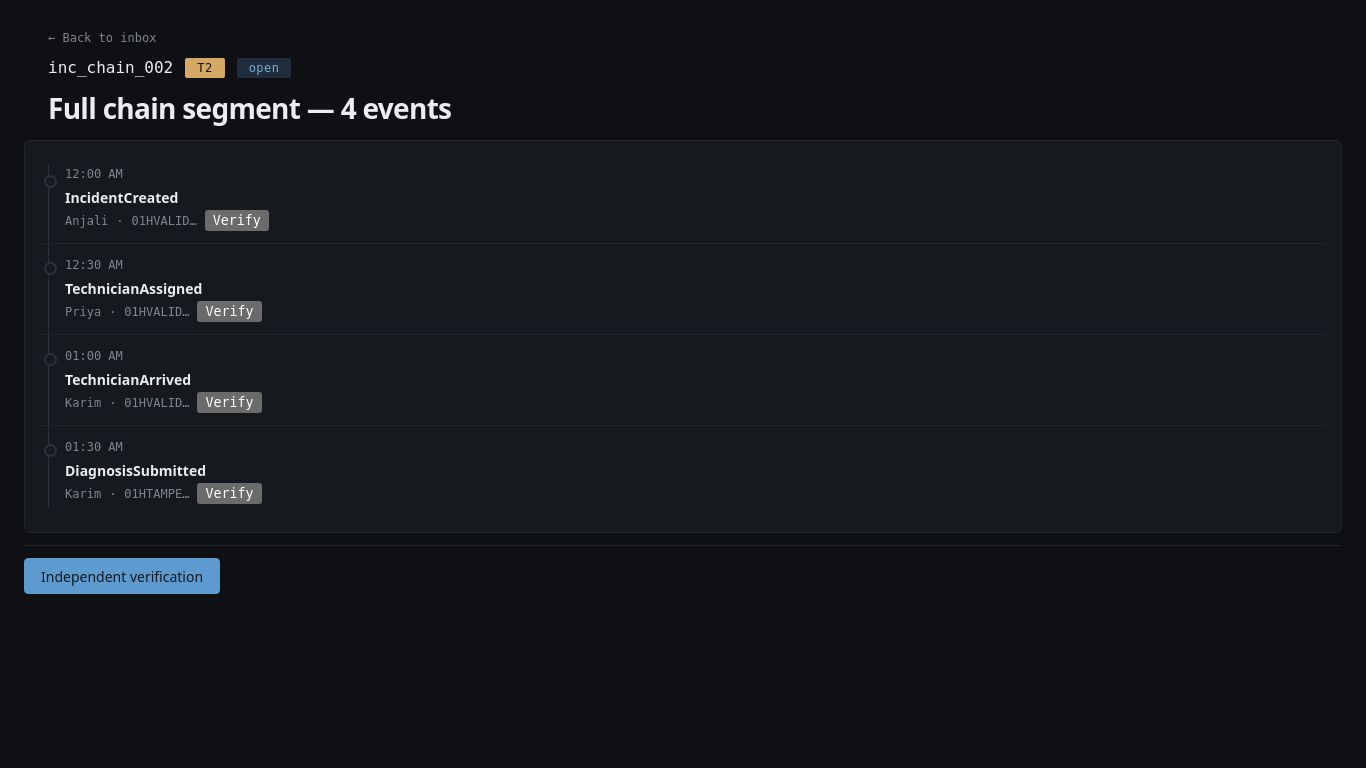
it: WO-003 IncidentChainSegmentPage — extended REQs › escalate button is disabled with Phase 2 tooltip (REQ-006)
Click the button with test id "chain-segment-verify-full": click(122, 576) x1=24 y1=558 x2=220 y2=594
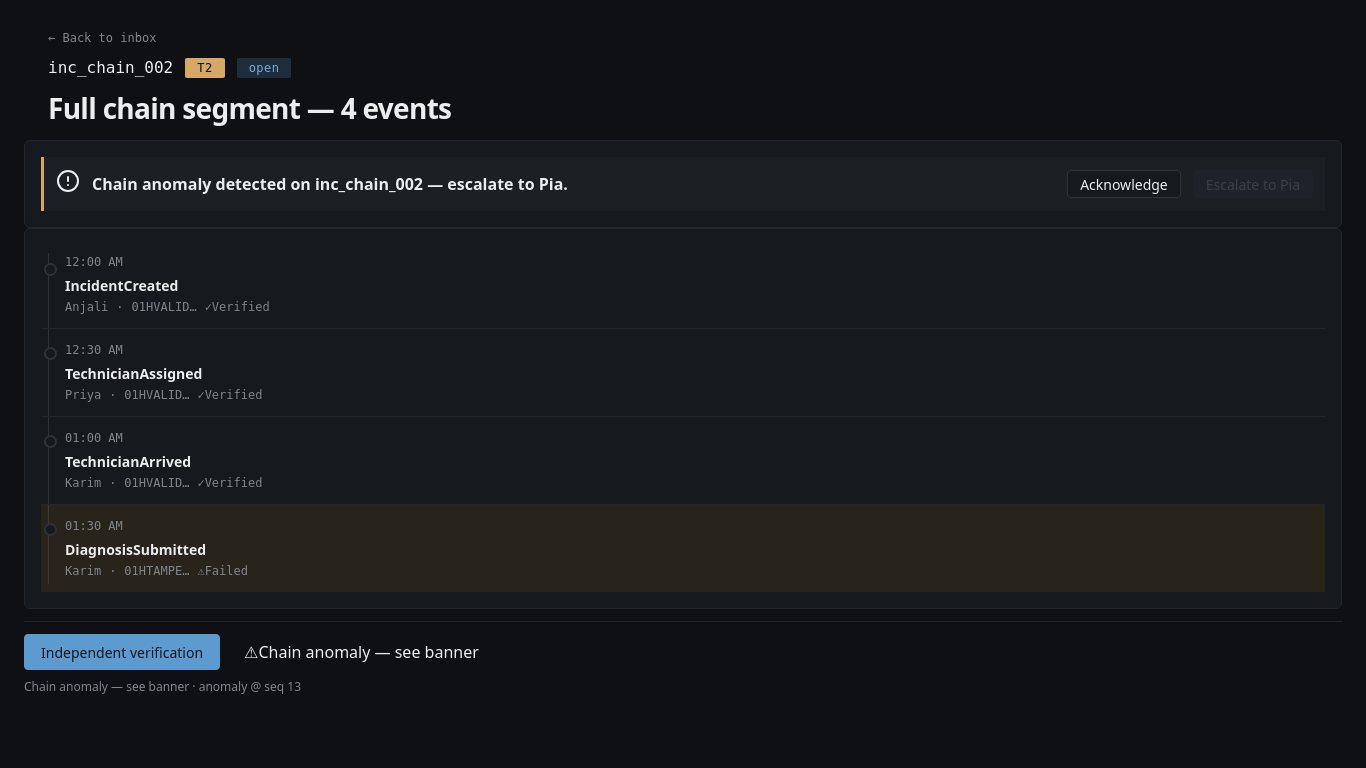
Check: the element with test id "chain-anomaly-banner" is shown, box x1=41 y1=157 x2=1325 y2=211
Check: the button with test id "chain-anomaly-escalate" is disabled, box x1=1193 y1=170 x2=1313 y2=198
